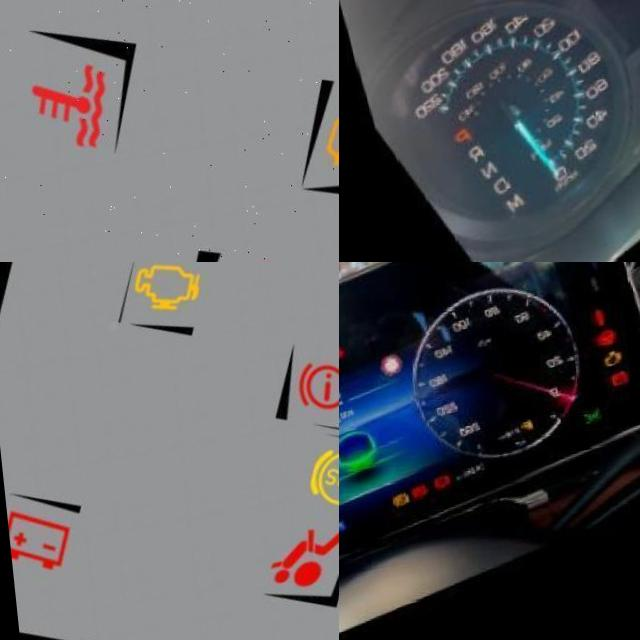Seat Belt: (339, 353, 344, 378)
